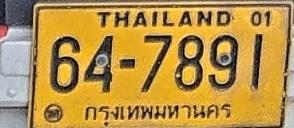1: (251, 33, 263, 89)
4: (84, 34, 114, 92)
6: (50, 34, 80, 92)
7: (141, 34, 172, 92)
8: (174, 34, 204, 90)
9: (208, 34, 239, 90)
BKK: (81, 100, 234, 128)
